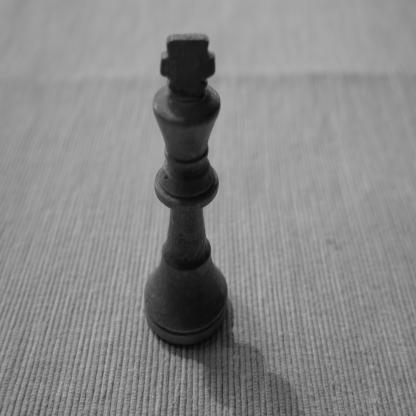white-king: (143, 32, 228, 346)
